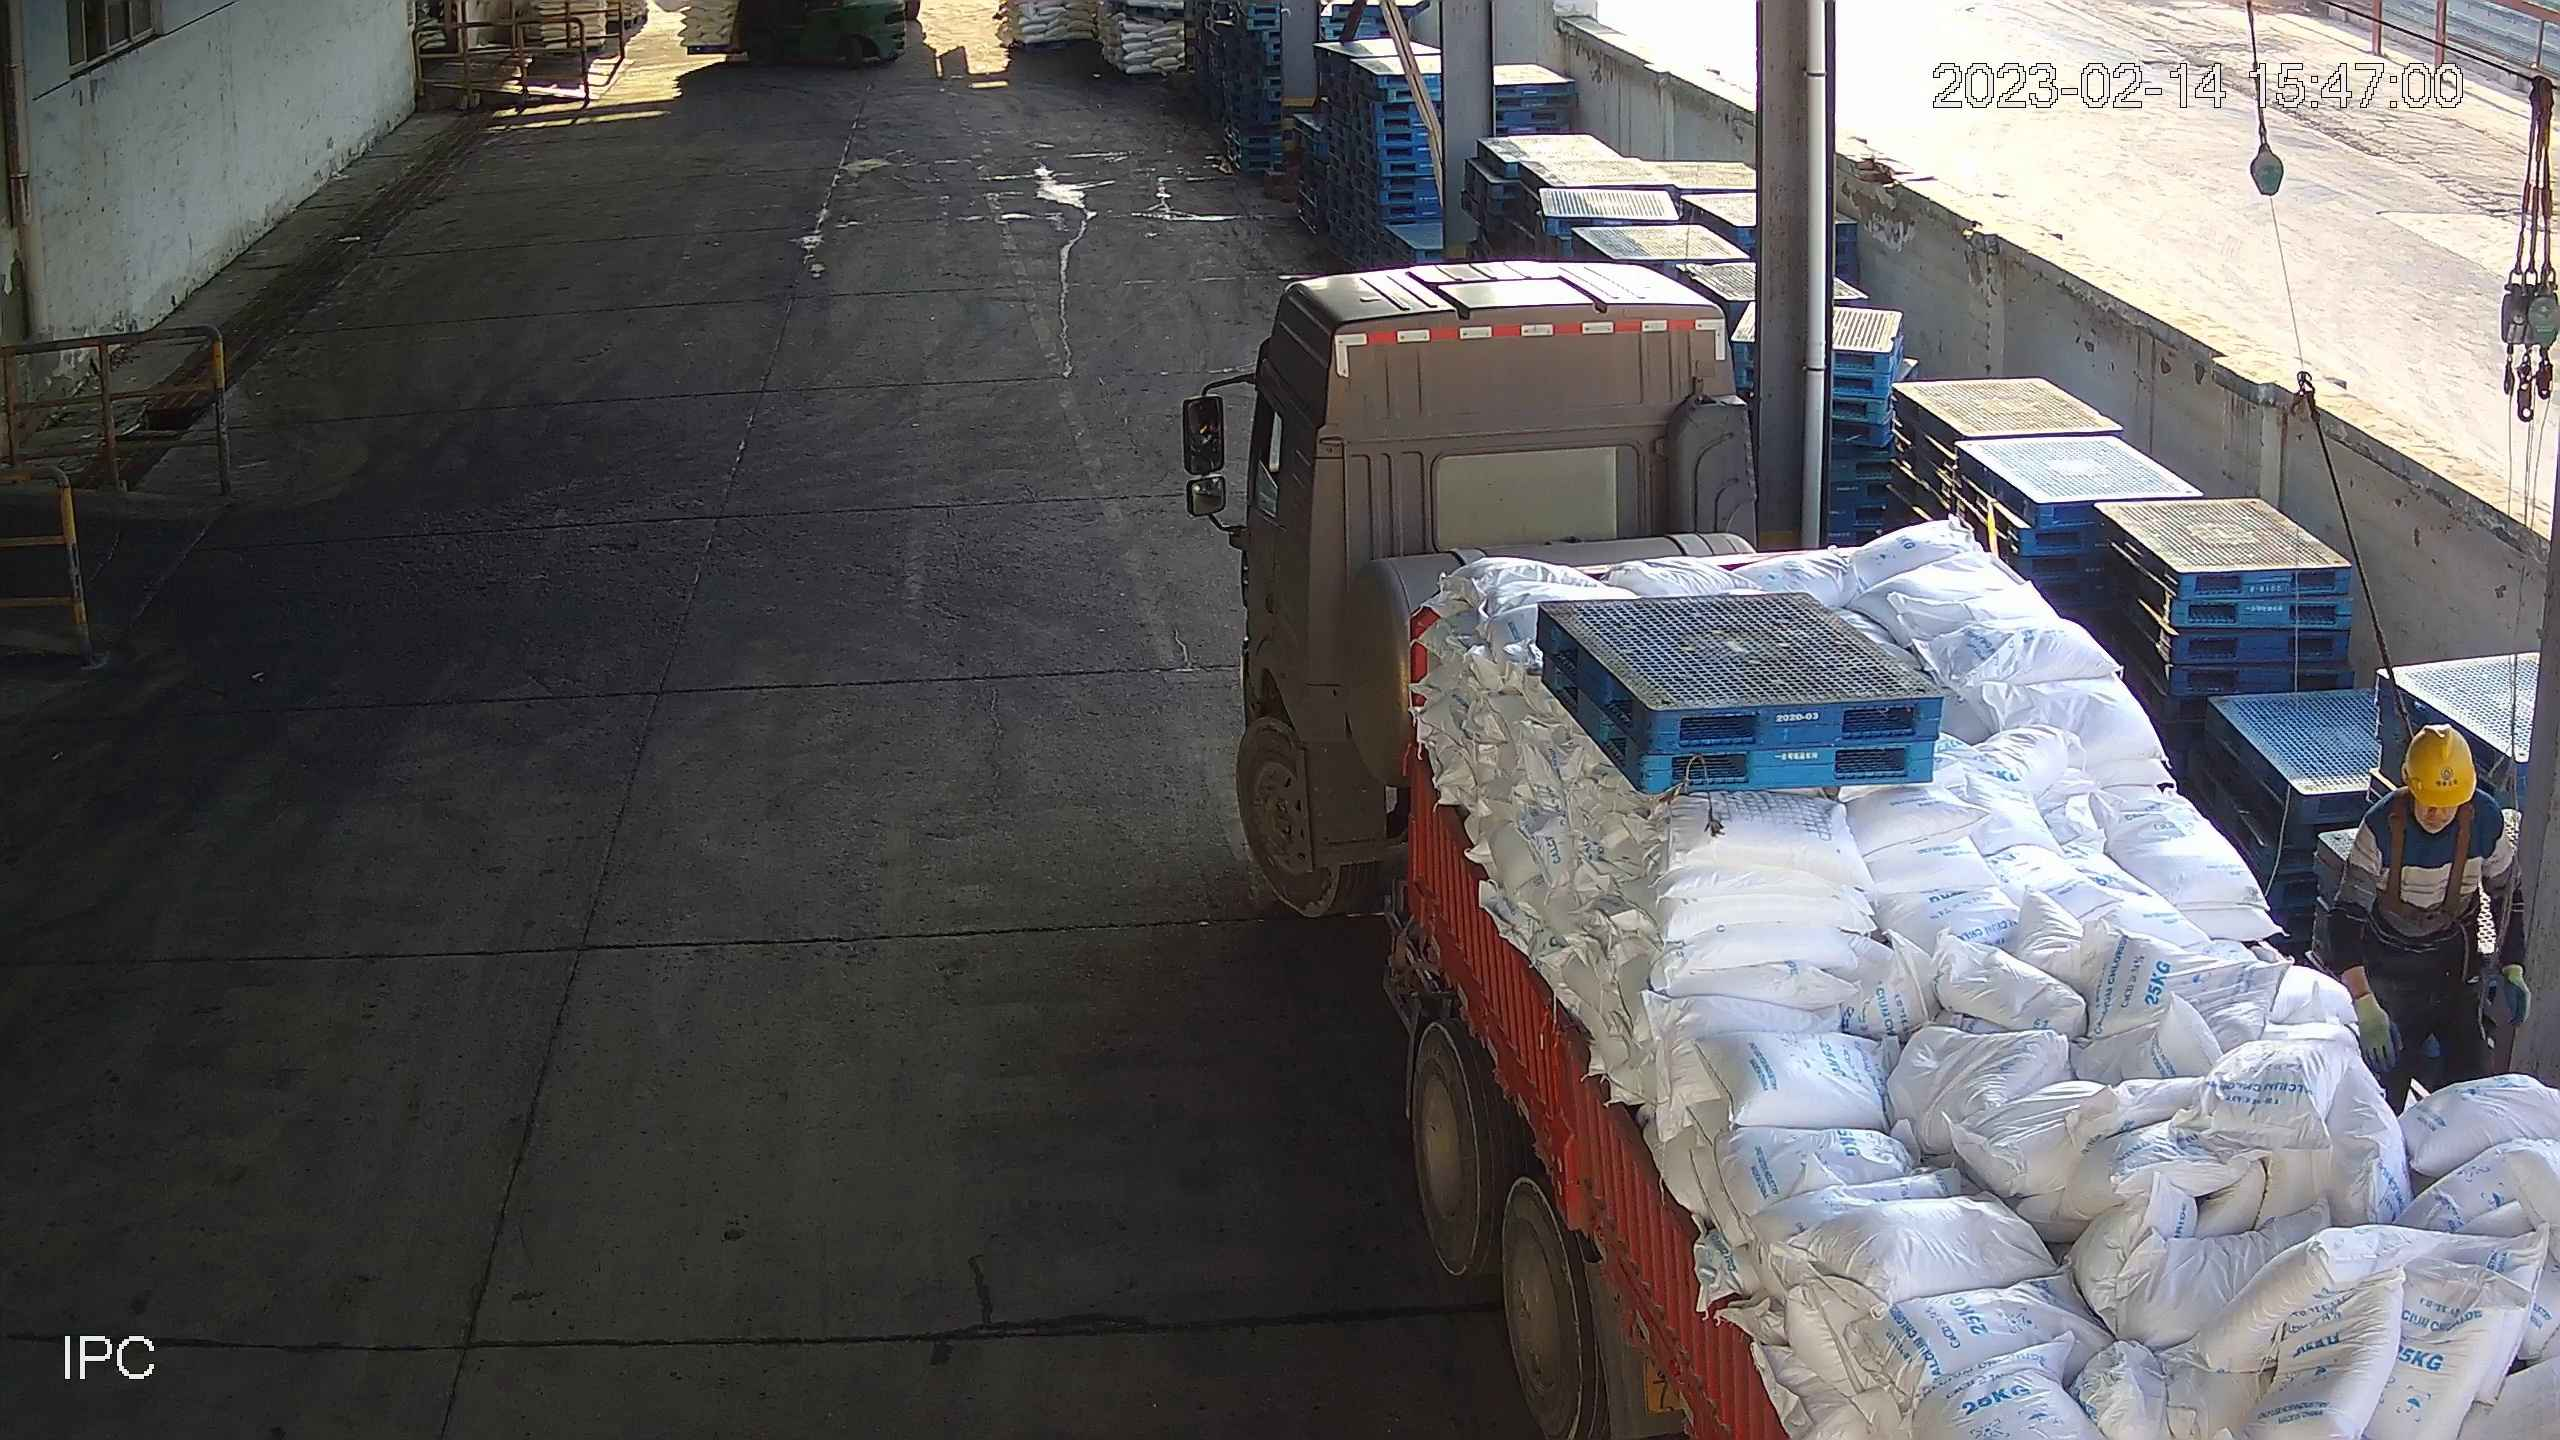belt: (2371, 782, 2477, 927)
head: (2357, 721, 2506, 843)
helmet: (2398, 722, 2478, 809)
people: (2326, 721, 2533, 1118)
truck: (1230, 255, 2560, 1440)
